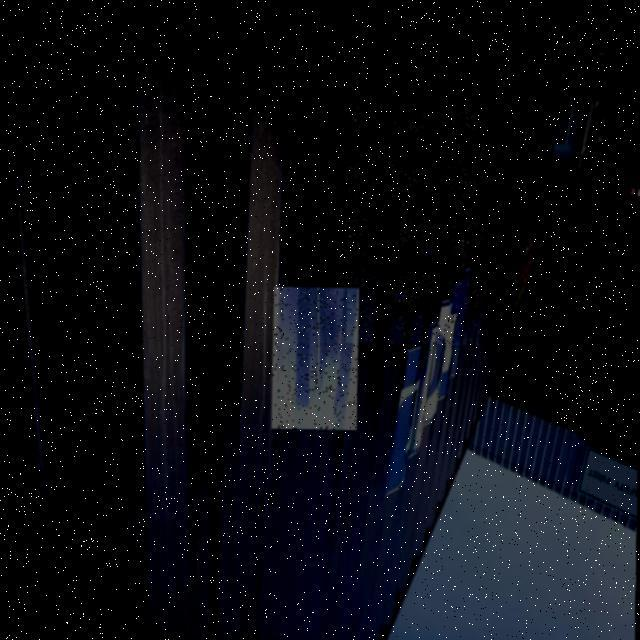Dent: (346, 90, 485, 344)
Minor-Dent: (272, 286, 359, 430)
